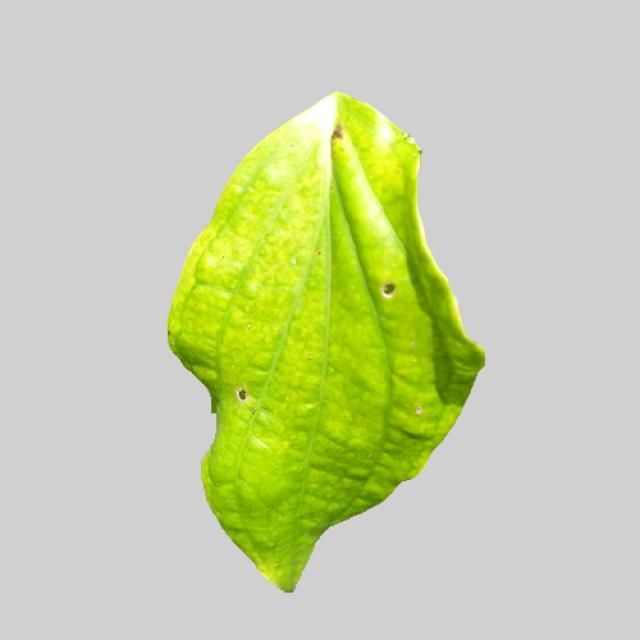yellow-mottle-virus: (149, 98, 494, 592)
